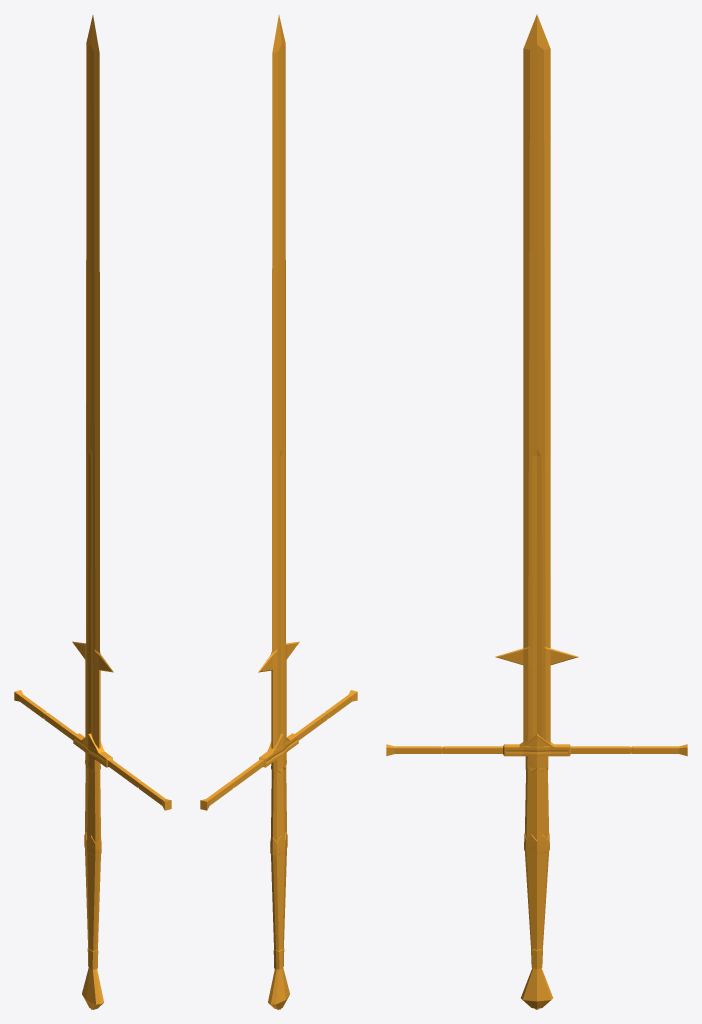
The model's file is SM_Sword_Zweihander_A.fbx.
3 views of the same model, side by side, from view 1: azimuth 30°, elevation 25°; view 2: azimuth 150°, elevation 25°; view 3: azimuth 270°, elevation 25° (orthographic).
Visible parts, largest first — view 1: sword-zweihander-a; view 2: sword-zweihander-a; view 3: sword-zweihander-a.
Boxes of the visible parts, bbox=[...] form: sword-zweihander-a: bbox=[14, 15, 171, 1009]; sword-zweihander-a: bbox=[200, 15, 357, 1009]; sword-zweihander-a: bbox=[386, 14, 687, 1009].
Bounding box in the file's own units: 0.0296 × 2 × 0.55.
